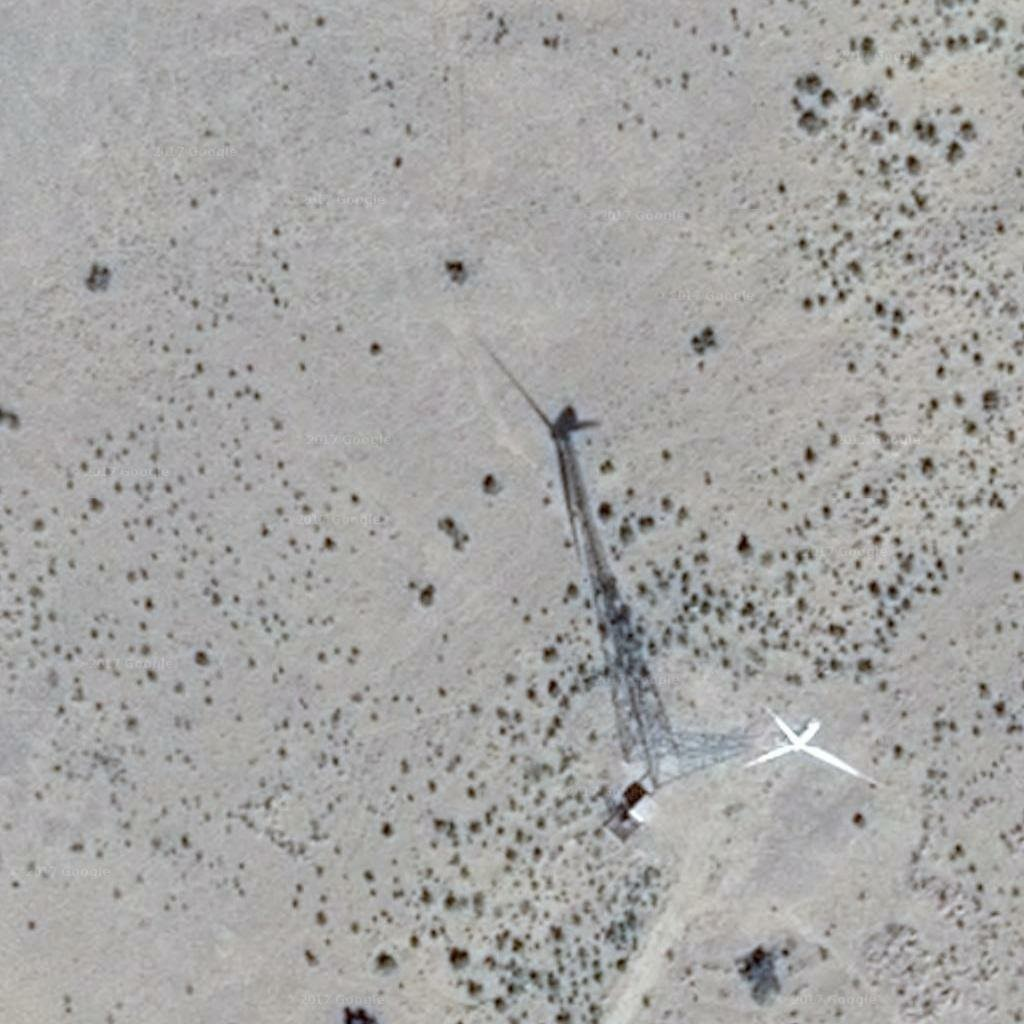Windmill: (467, 330, 663, 654)
